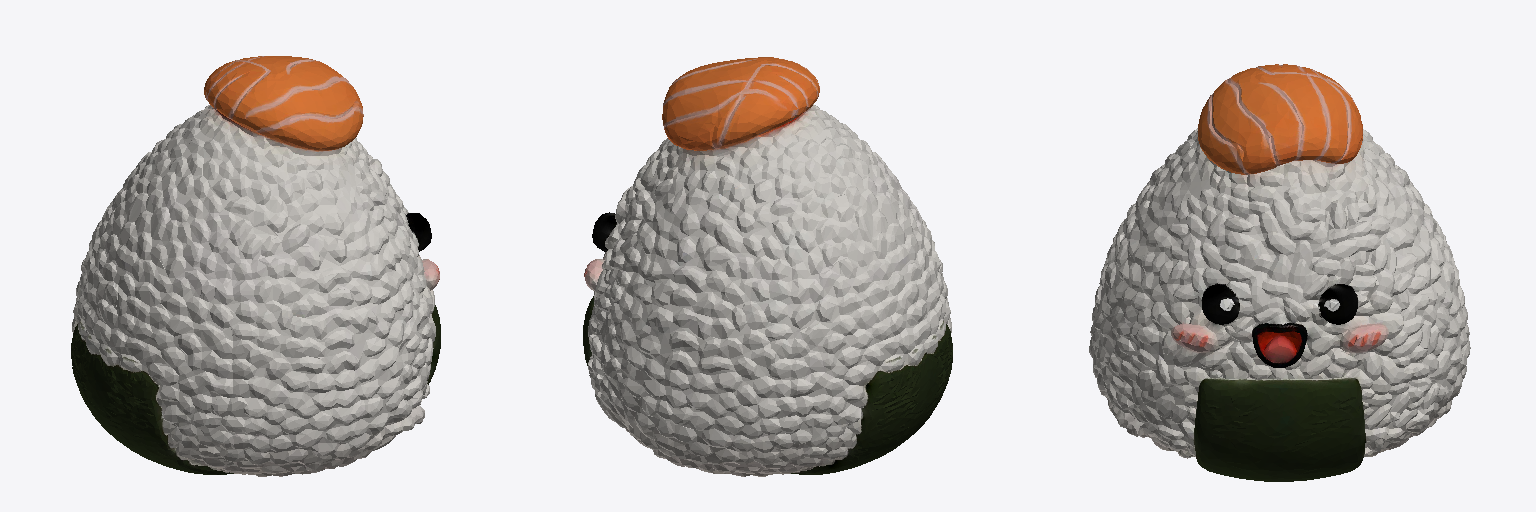
The picture shows the model from 3 angles: view 1: azimuth 30°, elevation 25°; view 2: azimuth 150°, elevation 25°; view 3: azimuth 270°, elevation 25°; orthographic projection.
Visible parts, largest first — view 1: tripo_node_e10b165e-0ca2-4041-87cf-2887e9c8fe7f; view 2: tripo_node_e10b165e-0ca2-4041-87cf-2887e9c8fe7f; view 3: tripo_node_e10b165e-0ca2-4041-87cf-2887e9c8fe7f.
Boxes of the visible parts, box(x1,y1,x2,y2) form: tripo_node_e10b165e-0ca2-4041-87cf-2887e9c8fe7f: box(71, 56, 440, 476); tripo_node_e10b165e-0ca2-4041-87cf-2887e9c8fe7f: box(583, 57, 952, 476); tripo_node_e10b165e-0ca2-4041-87cf-2887e9c8fe7f: box(1089, 64, 1470, 481).
Size of the model in its own units: 0.9037 by 1 by 0.9263.
Materials: 1 (1 with a texture image).